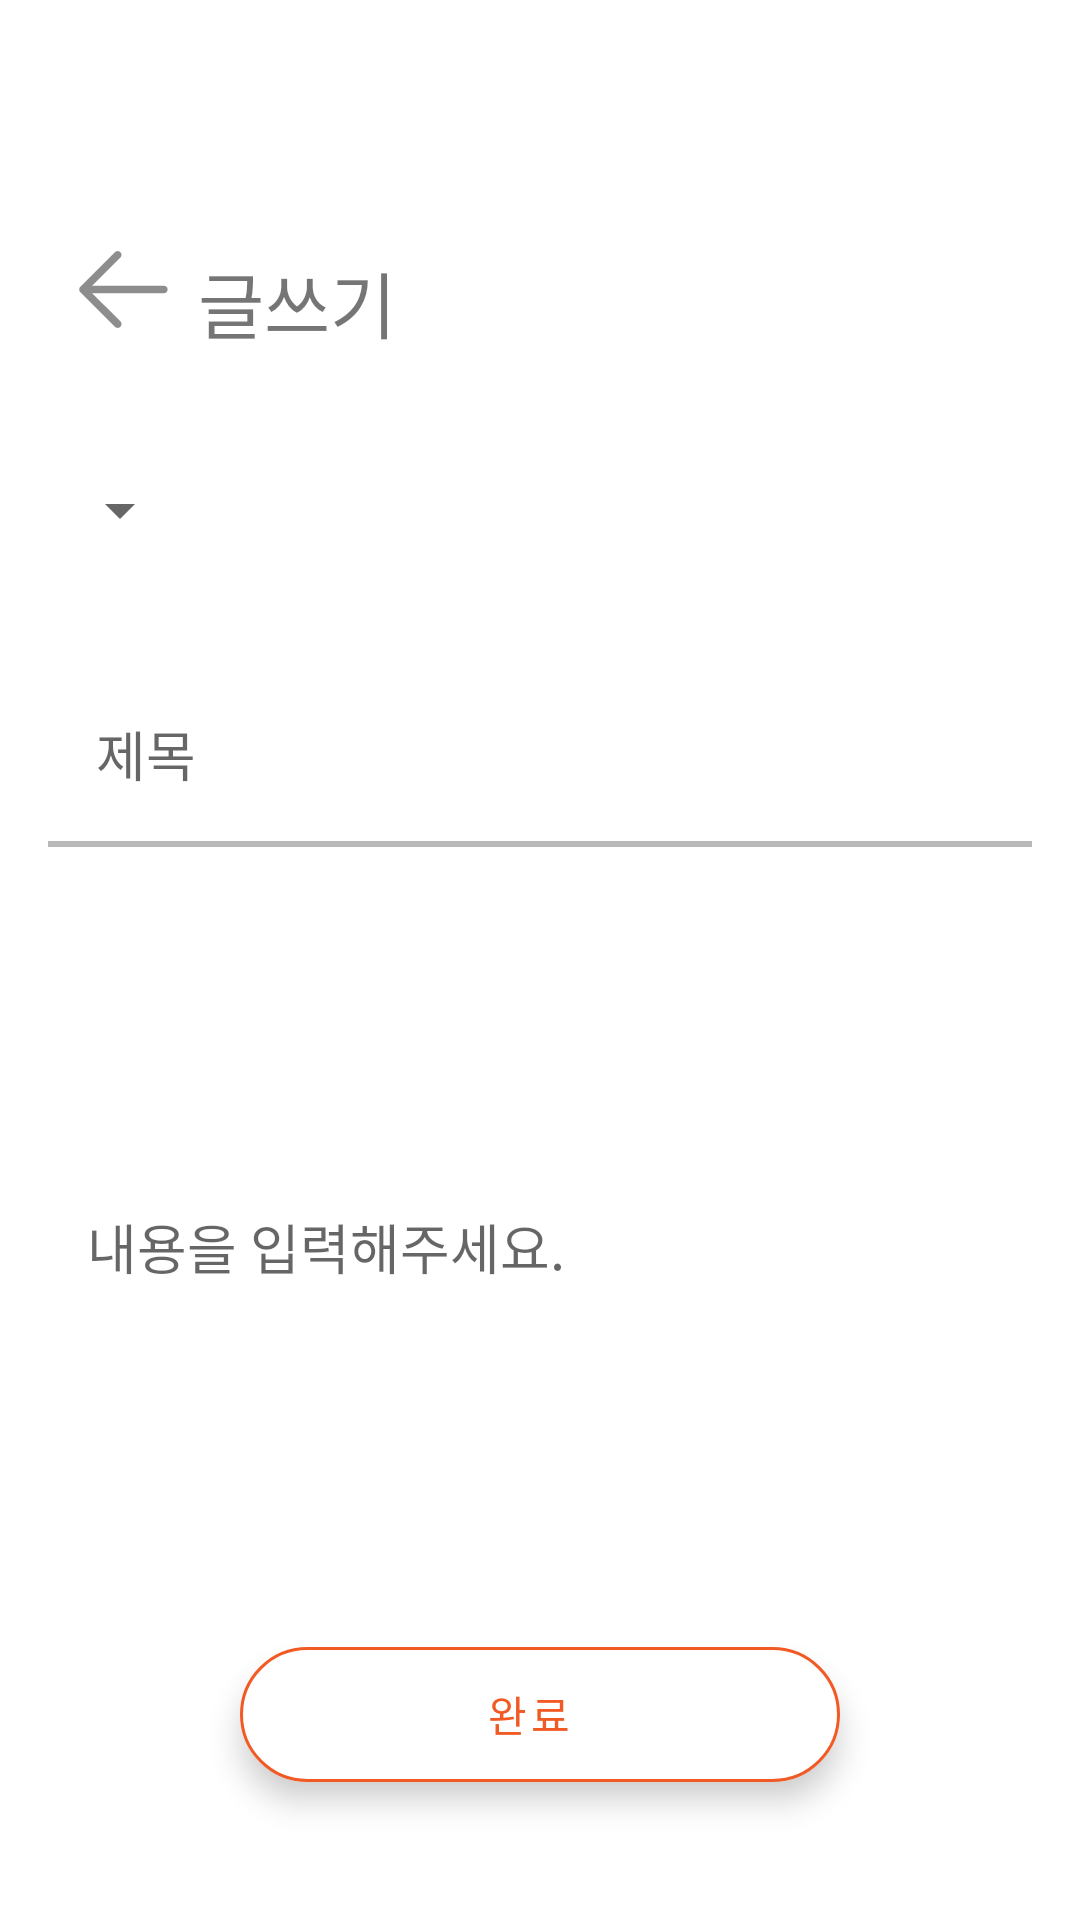

Named icons in this screenshot (1080*1920) and their bounding boxes, region(x1, y1, x2, y2):
back: region(79, 251, 168, 328)
